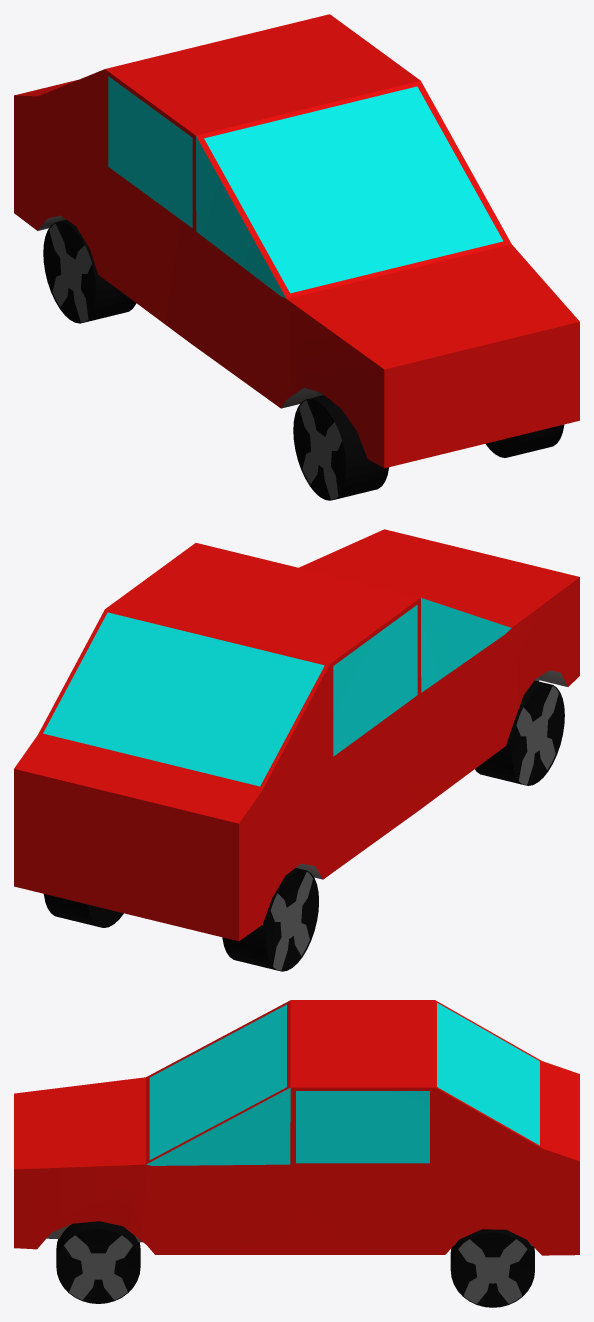
The model's file is Red Toy Car.fbx.
3 renders of one model, top to bottom at view 1: azimuth 30°, elevation 25°; view 2: azimuth 150°, elevation 25°; view 3: azimuth 270°, elevation 25°, orthographic. The views are drawn at different scales.
Visible parts, largest first — view 1: Toy Car (Red); view 2: Toy Car (Red); view 3: Toy Car (Red).
Part boxes in pixels (x1,y1,x2,y2): Toy Car (Red): (14, 14, 579, 500); Toy Car (Red): (14, 529, 579, 971); Toy Car (Red): (14, 1000, 579, 1307).
Bounding box in the file's own units: 407 × 471 × 1095.
